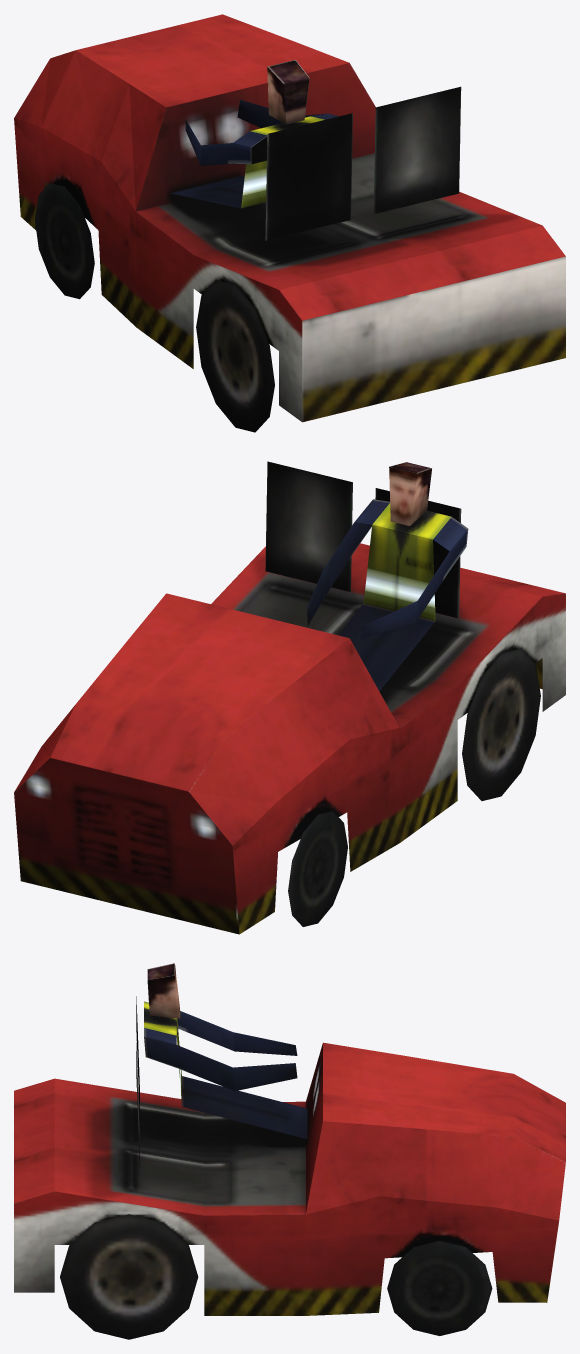
Rendered from ramp_carroAVA_LOD1.gltf.
3 renders of one model, top to bottom at view 1: azimuth 30°, elevation 25°; view 2: azimuth 150°, elevation 25°; view 3: azimuth 270°, elevation 25°, orthographic. The views are drawn at different scales.
Parts seen in each view (by area): view 1: node1; view 2: node1; view 3: node1.
Boxes of the visible parts, x1,y1,x2,y2 form: node1: (14, 14, 565, 432); node1: (14, 461, 565, 934); node1: (14, 963, 565, 1339).
Size of the model in its own units: 1.41 by 1.67 by 2.9.
